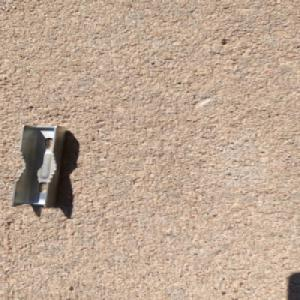ClampPart: (10, 123, 69, 210)
